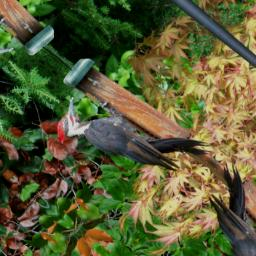Woodpecker: (42, 60, 215, 215)
